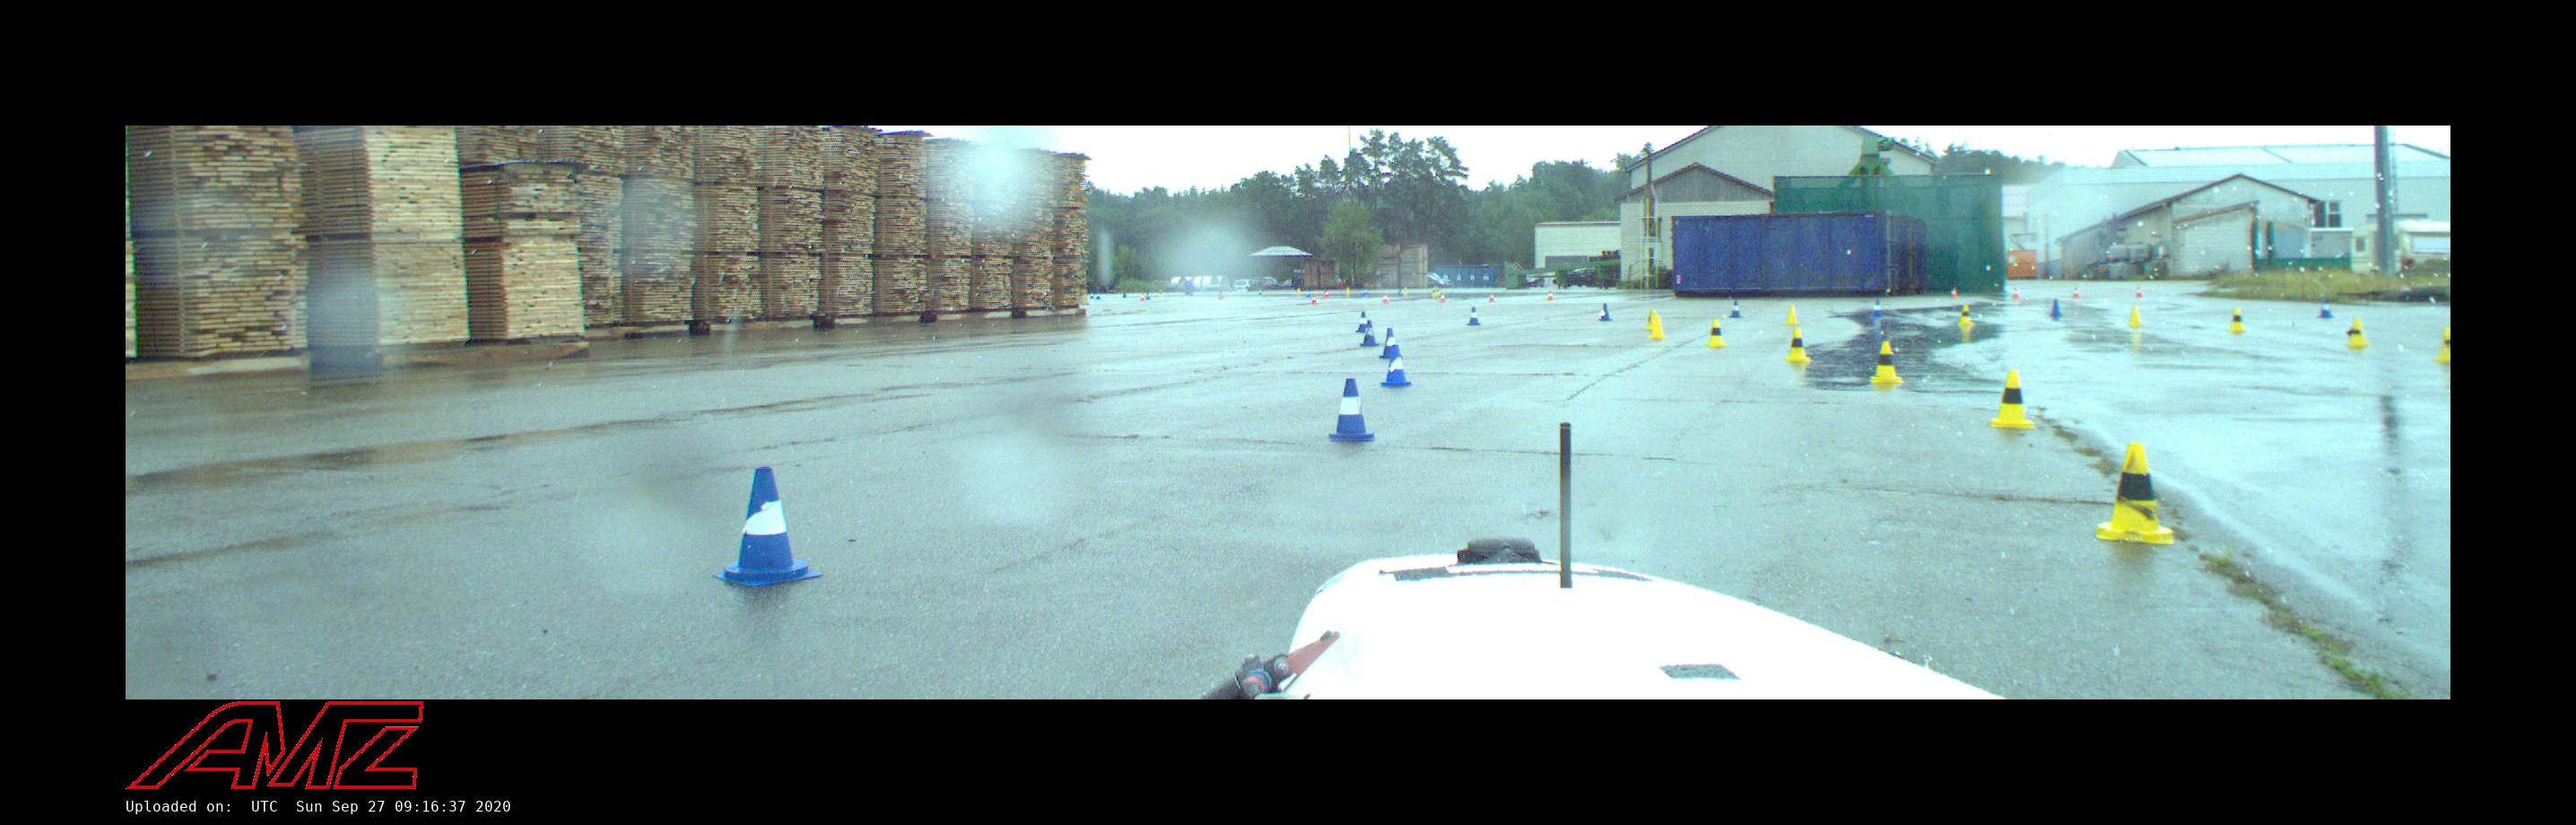blue_cone: (713, 467, 821, 587), (1331, 380, 1373, 442), (1382, 347, 1411, 386), (1360, 319, 1380, 347), (1380, 329, 1393, 358), (2318, 297, 2333, 317), (1870, 299, 1884, 317), (1730, 299, 1743, 317), (1599, 302, 1612, 320), (1467, 307, 1480, 325), (2049, 299, 2062, 317), (1357, 311, 1367, 332), (1257, 288, 1263, 296), (1089, 289, 1094, 299), (1398, 288, 1403, 297), (1145, 291, 1150, 299), (1096, 291, 1101, 299), (1122, 291, 1127, 299), (1360, 288, 1365, 296)
orange_cone: (2134, 286, 2142, 297), (2072, 286, 2080, 297), (2011, 286, 2019, 297), (1948, 288, 1957, 297), (1546, 291, 1554, 299), (1138, 293, 1147, 301), (1488, 294, 1497, 301), (1439, 293, 1446, 301), (1382, 294, 1388, 302), (1216, 291, 1222, 299), (1324, 289, 1329, 299), (1311, 293, 1316, 302)
yellow_cone: (2096, 445, 2173, 544), (1990, 370, 2034, 429), (1871, 342, 1901, 381), (1782, 329, 1810, 360), (2344, 317, 2371, 347), (2435, 327, 2449, 362), (1648, 316, 1667, 339), (1709, 319, 1722, 347), (1958, 306, 1975, 325), (2229, 307, 2244, 329), (1784, 306, 1799, 324), (2131, 307, 2142, 327), (1644, 309, 1654, 329), (1158, 289, 1165, 297), (1344, 286, 1350, 294), (1403, 286, 1408, 296), (1431, 288, 1436, 296), (1296, 288, 1301, 293)
